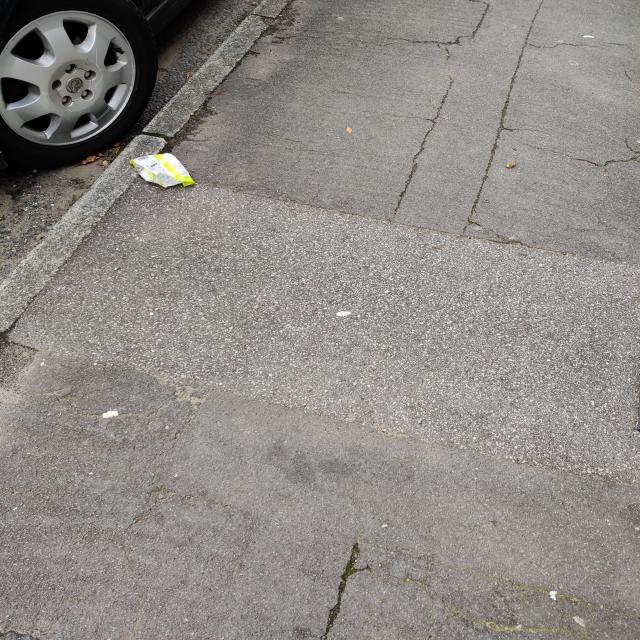litter: (111, 145, 207, 200)
